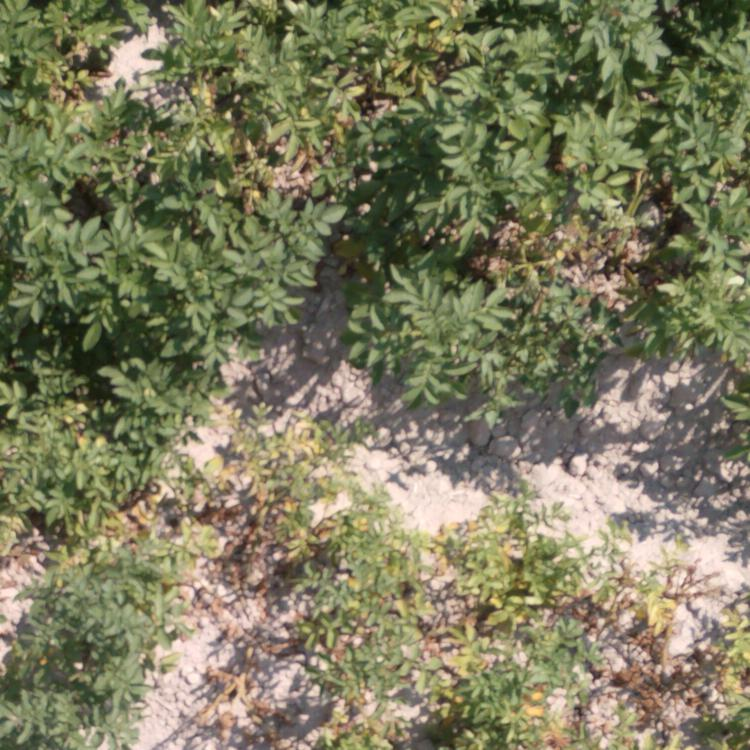healthy: (7, 208, 329, 380), (371, 254, 565, 412), (564, 4, 750, 161), (471, 1, 552, 232), (22, 575, 132, 732), (648, 169, 733, 370), (337, 135, 446, 237)
stressed: (439, 514, 587, 750), (298, 521, 431, 748), (601, 557, 750, 746), (10, 415, 169, 560), (290, 8, 465, 123), (172, 29, 270, 202), (1, 4, 122, 140), (202, 417, 312, 556)
